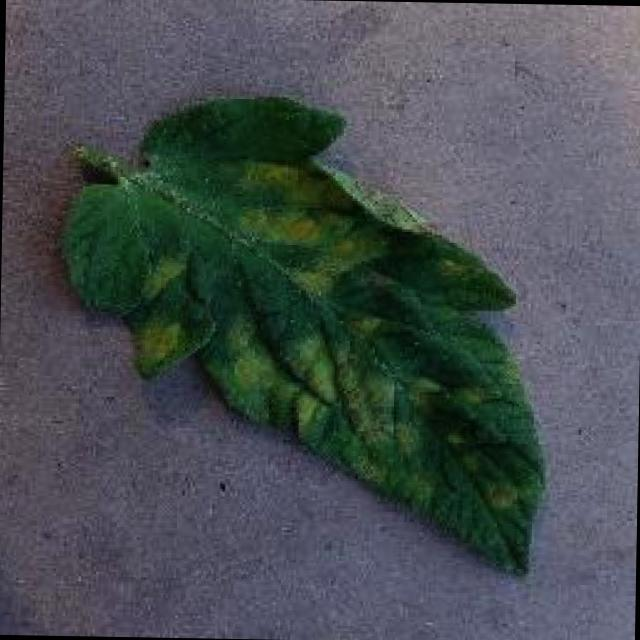Tomato mold leaf: (58, 89, 553, 578)
